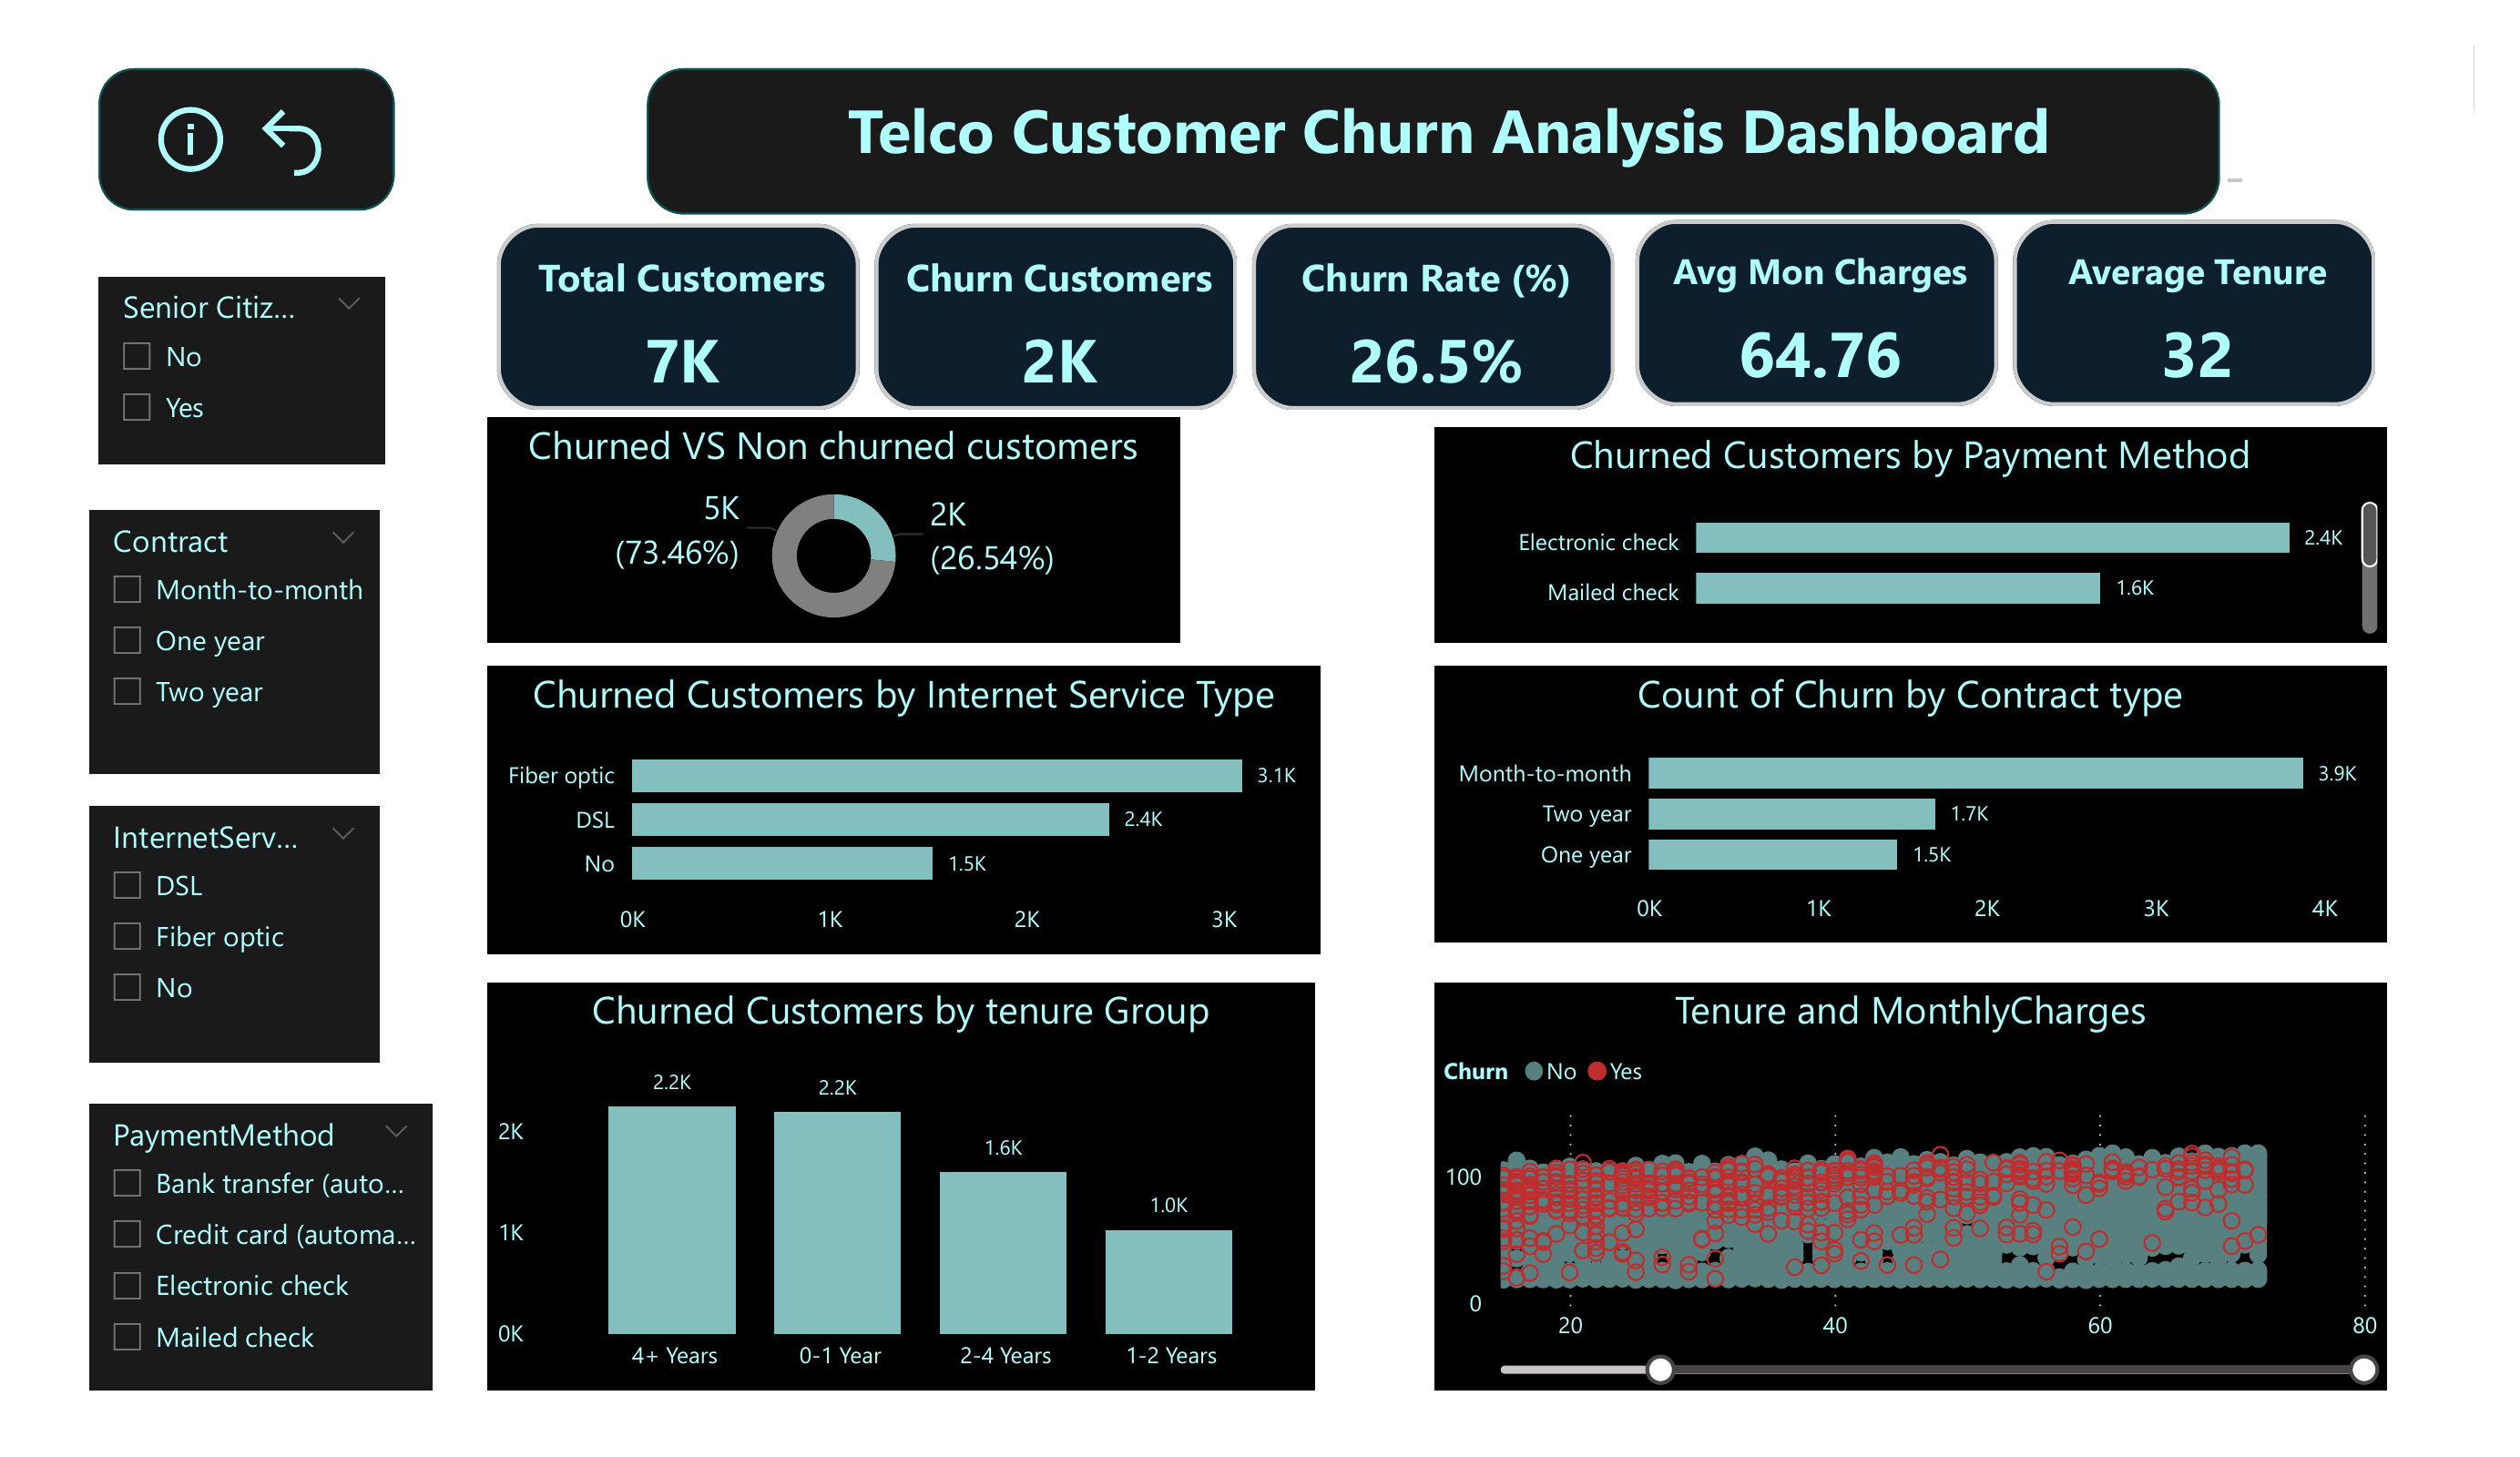

Layout of this report page (visuals, bound fields, positions):
{"tool":"powerbi","page":{"name":"Telco Customer Churn Analysis Dashboard","canvas":[1280,720],"ordinal":0},"visuals":[{"type":"cardVisual","fields":{"Data":["Telco-Customer-Churn.Total Customers","Telco-Customer-Churn.Total Churned Customers","Telco-Customer-Churn.Churn Rate"]},"box":[233,88.8,600.1,108.9],"z":0},{"type":"cardVisual","fields":{"Data":["Telco-Customer-Churn.Average Monthly Charges","Telco-Customer-Churn.Average Tenure"]},"box":[833,87.2,400.6,108.9],"z":1000},{"type":"donutChart","title":"Churned VS Non churned customers ","fields":{"Y":["Telco-Customer-Churn.Churned Customers","Telco-Customer-Churn.Non Churned Customers"]},"box":[233,196.1,365.4,119],"z":2000},{"type":"clusteredBarChart","title":"Count of Churn by Contract type","fields":{"Category":["Telco-Customer-Churn.Contract"],"Y":["CountNonNull(Telco-Customer-Churn.Churn)"]},"box":[732.5,326.8,501.2,145.8],"z":3000},{"type":"clusteredBarChart","title":"Churned Customers by Payment Method","fields":{"Y":["CountNonNull(Telco-Customer-Churn.Churn)"],"Category":["Telco-Customer-Churn.PaymentMethod"]},"box":[732.5,201.1,501.2,114],"z":4000},{"type":"clusteredBarChart","title":"Churned Customers by Internet Service Type ","fields":{"Y":["CountNonNull(Telco-Customer-Churn.Churn)"],"Category":["Telco-Customer-Churn.InternetService"]},"box":[233,326.8,439.2,152.5],"z":5000},{"type":"columnChart","title":"Churned Customers by tenure Group","fields":{"Category":["Telco-Customer-Churn.Tenure Group"],"Y":["CountNonNull(Telco-Customer-Churn.Churn)"]},"box":[233,494.5,435.8,214.5],"z":6000},{"type":"scatterChart","title":"Tenure and MonthlyCharges","fields":{"X":["Telco-Customer-Churn.tenure"],"Y":["Telco-Customer-Churn.MonthlyCharges"],"Series":["Telco-Customer-Churn.Churn"]},"box":[732.5,494.5,501.2,214.5],"z":7000},{"type":"slicer","fields":{"Values":["Telco-Customer-Churn.Contract"]},"box":[23.5,244.7,152.5,139.1],"z":8000},{"type":"slicer","fields":{"Values":["Telco-Customer-Churn.InternetService"]},"box":[23.5,400.6,152.5,135.8],"z":9000},{"type":"slicer","fields":{"Values":["Telco-Customer-Churn.PaymentMethod"]},"box":[23.5,558.2,181,150.9],"z":10000},{"type":"slicer","fields":{"Values":["Telco-Customer-Churn.Senior Citizen Staus"]},"box":[28.5,122.4,150.9,98.9],"z":11000},{"type":"shape","box":[316.8,11.7,829.7,77.1],"z":13000},{"type":"textbox","title":"Telco Customer Churn Analysis Dashboard","box":[316.8,21.8,846.5,55.3],"z":15000},{"type":"shape","box":[28.5,11.7,155.9,75.4],"z":16000},{"type":"actionButton","box":[107.3,28.5,45.3,45.3],"z":16250},{"type":"actionButton","box":[53.6,26.8,45.3,45.3],"z":16500}]}

Visuals, with their boxes in screenshot pixels (x1, y1, x2, y2):
cardVisual - Telco-Customer-Churn.Total Customers x Telco-Customer-Churn.Total Churned Customers: box(487, 214, 1627, 421)
cardVisual - Telco-Customer-Churn.Average Monthly Charges x Telco-Customer-Churn.Average Tenure: box(1627, 211, 2386, 418)
"Churned VS Non churned customers " donutChart: box(487, 418, 1181, 643)
"Count of Churn by Contract type" clusteredBarChart: box(1435, 666, 2387, 942)
"Churned Customers by Payment Method" clusteredBarChart: box(1435, 427, 2387, 643)
"Churned Customers by Internet Service Type " clusteredBarChart: box(487, 666, 1321, 955)
"Churned Customers by tenure Group" columnChart: box(487, 983, 1315, 1391)
"Tenure and MonthlyCharges" scatterChart: box(1435, 983, 2387, 1391)
slicer - Telco-Customer-Churn.Contract: box(90, 510, 380, 774)
slicer - Telco-Customer-Churn.InternetService: box(90, 806, 380, 1064)
slicer - Telco-Customer-Churn.PaymentMethod: box(90, 1105, 434, 1391)
slicer - Telco-Customer-Churn.Senior Citizen Staus: box(99, 278, 386, 465)
shape: box(647, 67, 2221, 214)
"Telco Customer Churn Analysis Dashboard" textbox: box(647, 87, 2253, 192)
shape: box(99, 67, 395, 210)
actionButton: box(250, 99, 335, 186)
actionButton: box(148, 97, 233, 182)
